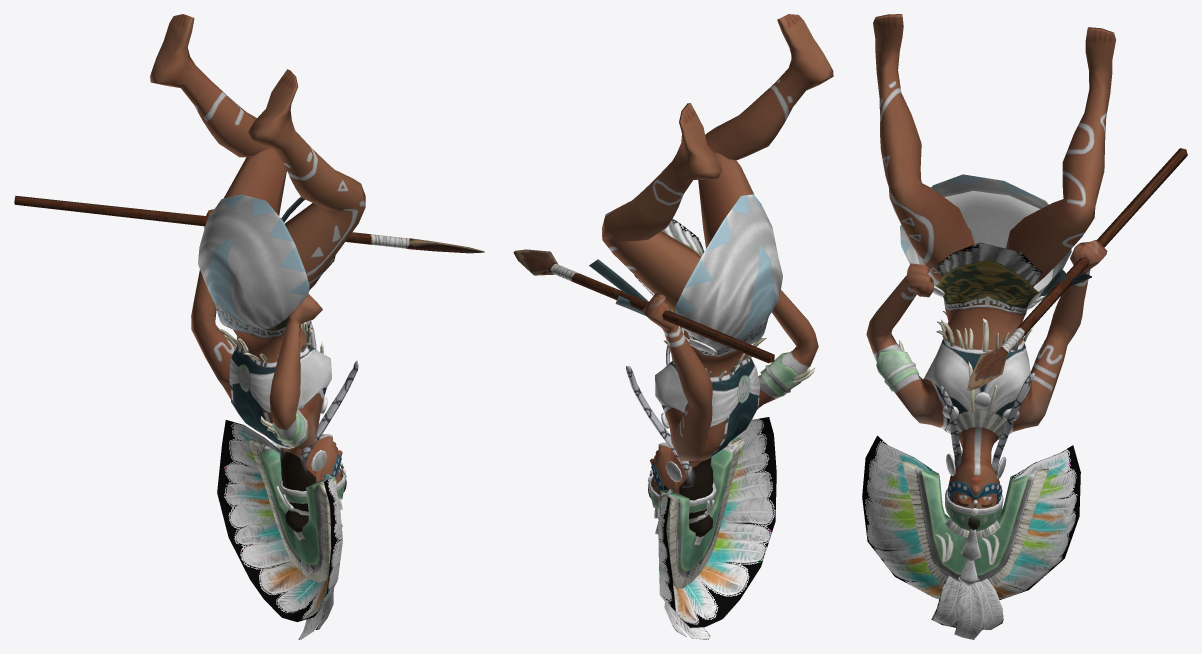
The model's file is rider-heavygreattemplesoldiers.glb.
The picture shows the model from 3 angles, left to right: view 1: azimuth 30°, elevation 25°; view 2: azimuth 150°, elevation 25°; view 3: azimuth 270°, elevation 25°; orthographic projection.
Bounding box in the file's own units: 1.57 × 2.49 × 1.22.
3 materials, 3 textured.
